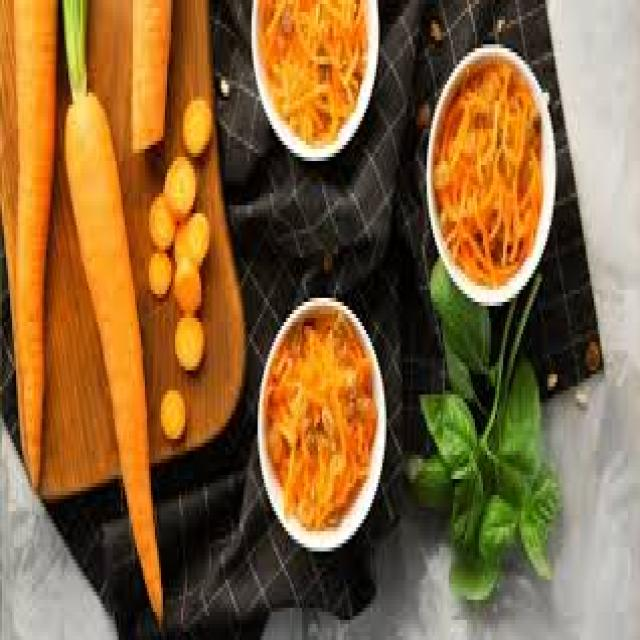Carrot: (54, 71, 172, 620), (3, 0, 51, 507), (258, 313, 368, 519), (442, 76, 540, 268), (148, 164, 212, 321), (268, 0, 351, 120), (120, 0, 170, 165), (177, 94, 216, 162), (164, 303, 203, 371), (154, 384, 189, 440)
